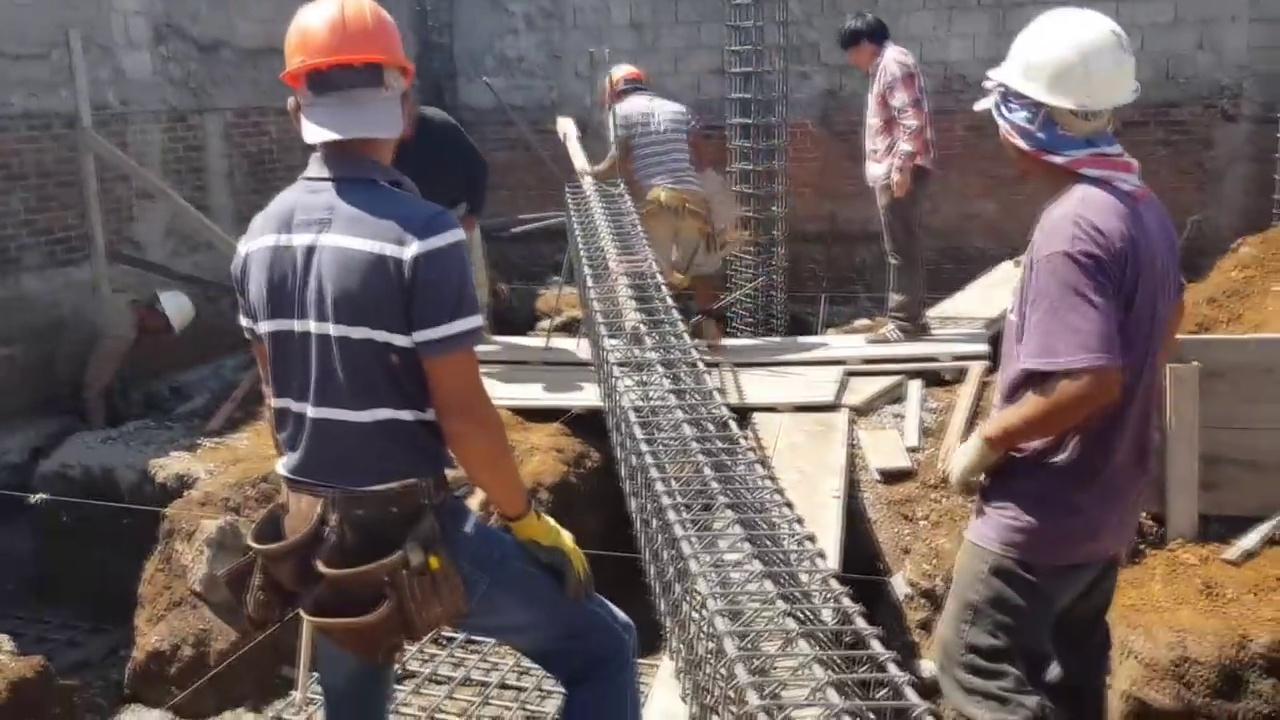helmet: (992, 9, 1144, 114), (267, 1, 419, 95), (147, 289, 185, 350), (604, 63, 647, 91)
helmet-off: (837, 11, 892, 73)
helmet-on: (976, 8, 1149, 187), (269, 7, 417, 199), (130, 284, 196, 352), (603, 63, 649, 110)
person: (227, 0, 642, 720), (931, 9, 1183, 710), (580, 62, 729, 314), (835, 13, 940, 353), (46, 272, 196, 438), (393, 97, 493, 334)
